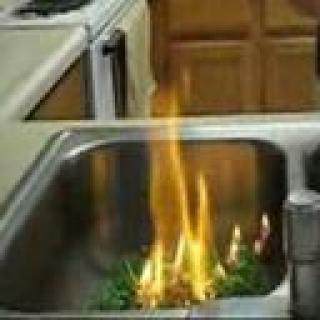fire: (135, 94, 231, 302), (210, 204, 276, 276)
